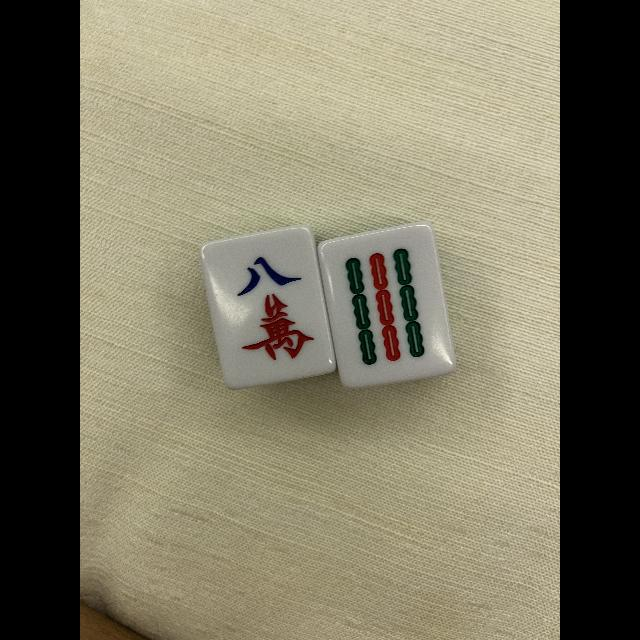b9: (330, 230, 444, 380)
c8: (214, 234, 326, 380)
